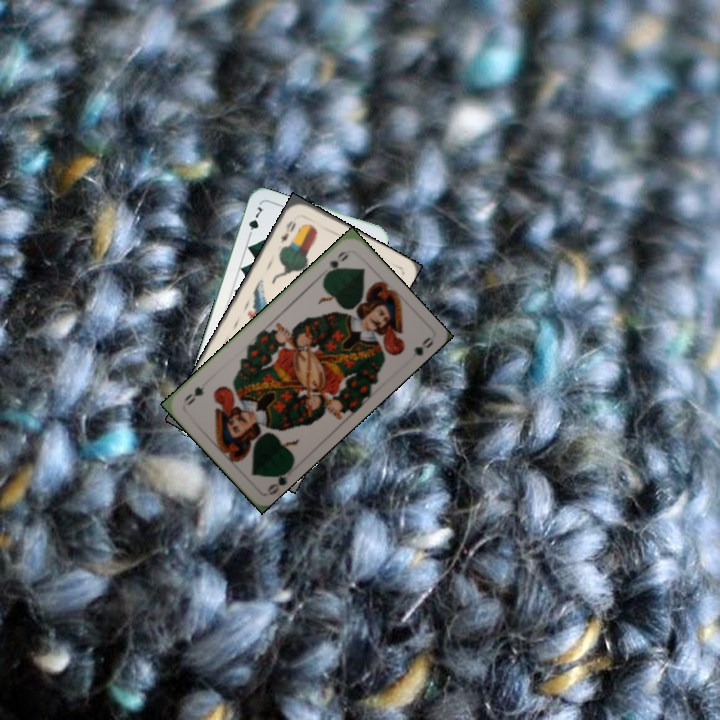EO: (276, 217, 298, 246)
G7: (244, 202, 265, 241)
GO: (263, 463, 295, 498), (321, 247, 352, 279)
